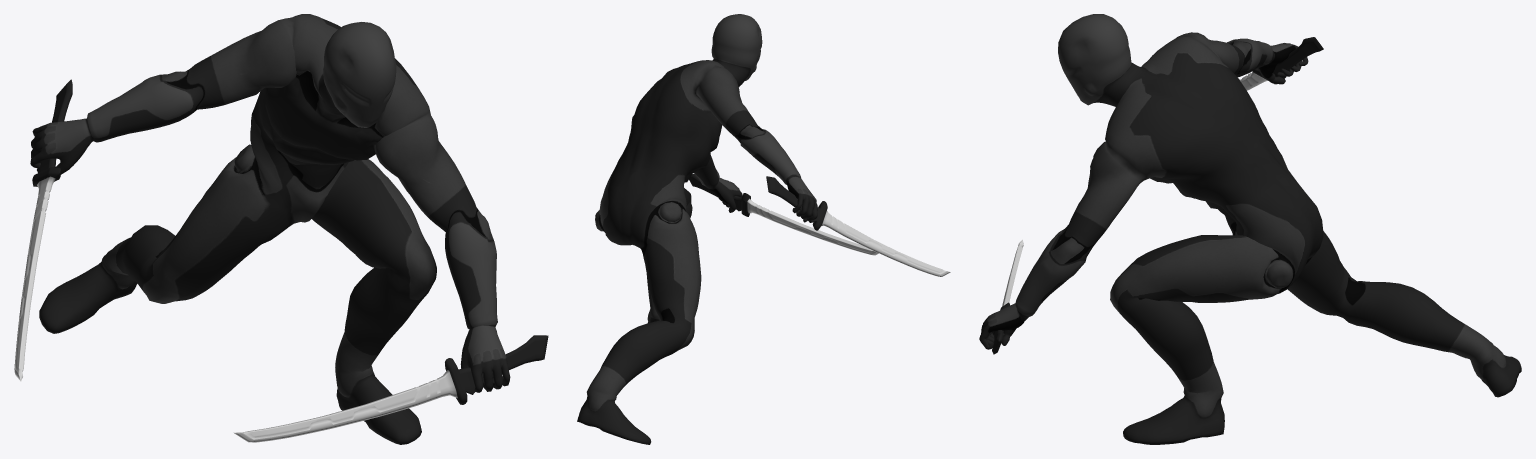
3 renders of one model, left to right at view 1: azimuth 30°, elevation 25°; view 2: azimuth 150°, elevation 25°; view 3: azimuth 270°, elevation 25°, orthographic. The views are drawn at different scales.
Parts seen in each view (by area): view 1: Cyborg_Ninja_Killer, Sword_l, Sword_l001; view 2: Cyborg_Ninja_Killer, Sword_l001, Sword_l; view 3: Cyborg_Ninja_Killer, Sword_l001, Sword_l.
Part boxes in pixels (left/top/right/bottom): Cyborg_Ninja_Killer: left=30, top=14, right=510, bottom=444; Sword_l: left=233, top=335, right=548, bottom=442; Sword_l001: left=14, top=79, right=72, bottom=381; Cyborg_Ninja_Killer: left=577, top=14, right=817, bottom=444; Sword_l001: left=766, top=176, right=950, bottom=276; Sword_l: left=689, top=173, right=878, bottom=255; Cyborg_Ninja_Killer: left=979, top=14, right=1521, bottom=444; Sword_l001: left=1239, top=37, right=1323, bottom=90; Sword_l: left=992, top=239, right=1023, bottom=354.
Bounding box in the file's own units: 134 × 125 × 156.
Materials: 2 (2 with a texture image).
